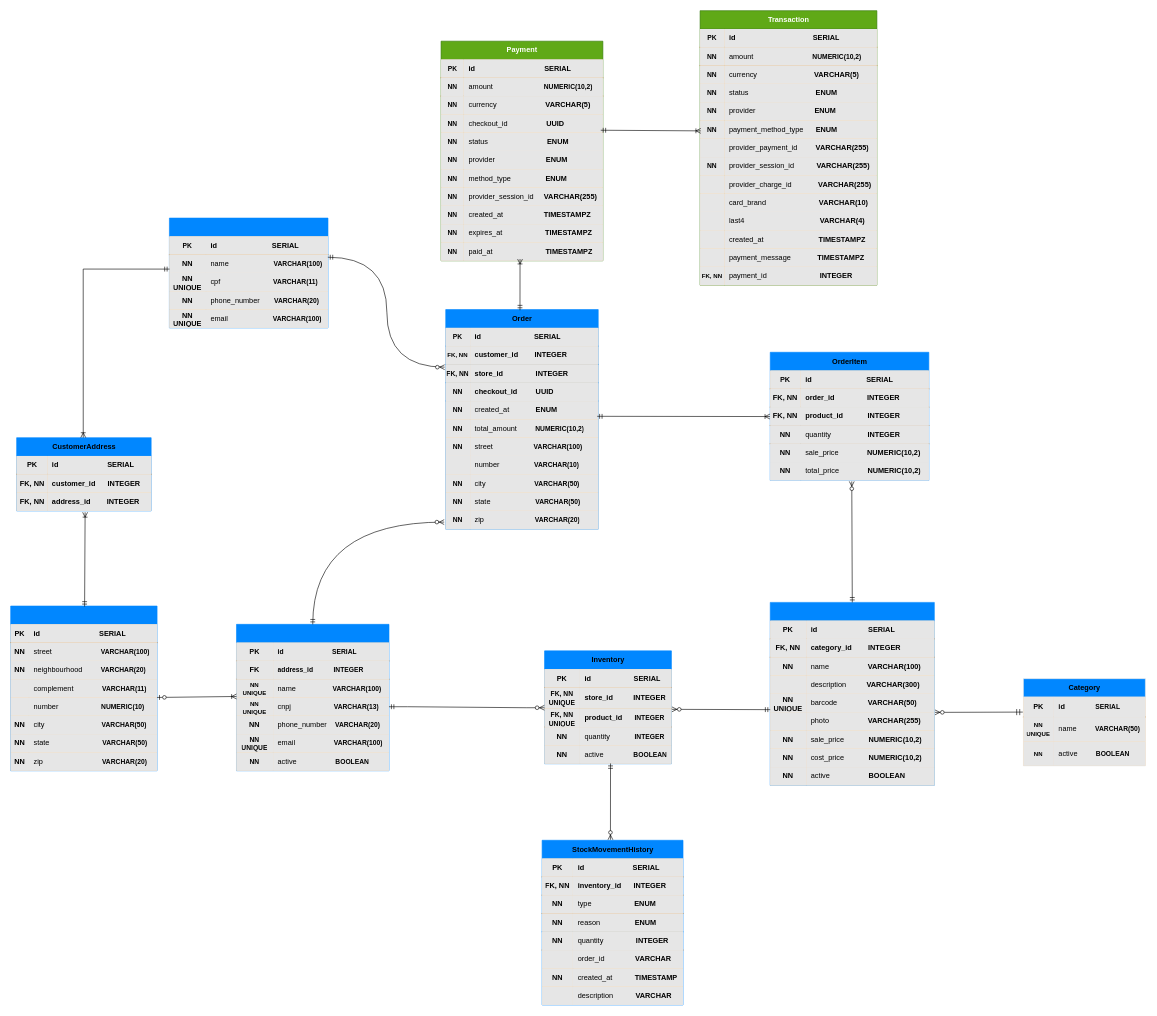
The diagram is 1157 pixels wide and 1016 high, and some of its shapes have lost their labels. The box of each missing label's shape, as (x1, y1, x2, y2) in pixels:
Address: (10, 605, 157, 771)
Customer: (169, 217, 328, 328)
Product: (770, 602, 934, 785)
Store: (236, 624, 389, 771)
